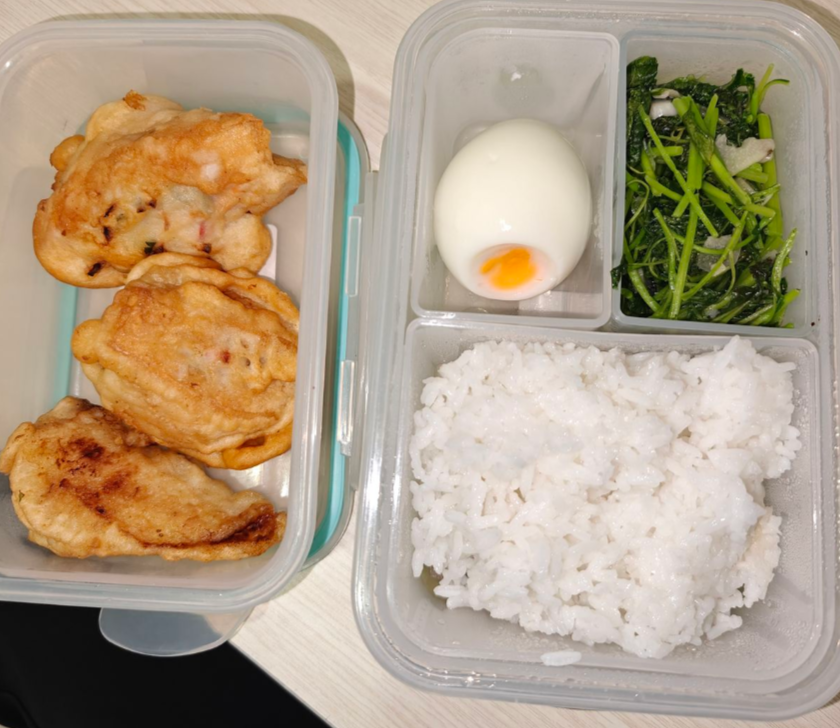buah_sayur_lainnya: (638, 81, 779, 314)
daging: (63, 125, 256, 258), (113, 293, 287, 421), (42, 456, 183, 549)
makanan_berpati: (450, 364, 763, 626)
telur: (467, 141, 563, 290)
